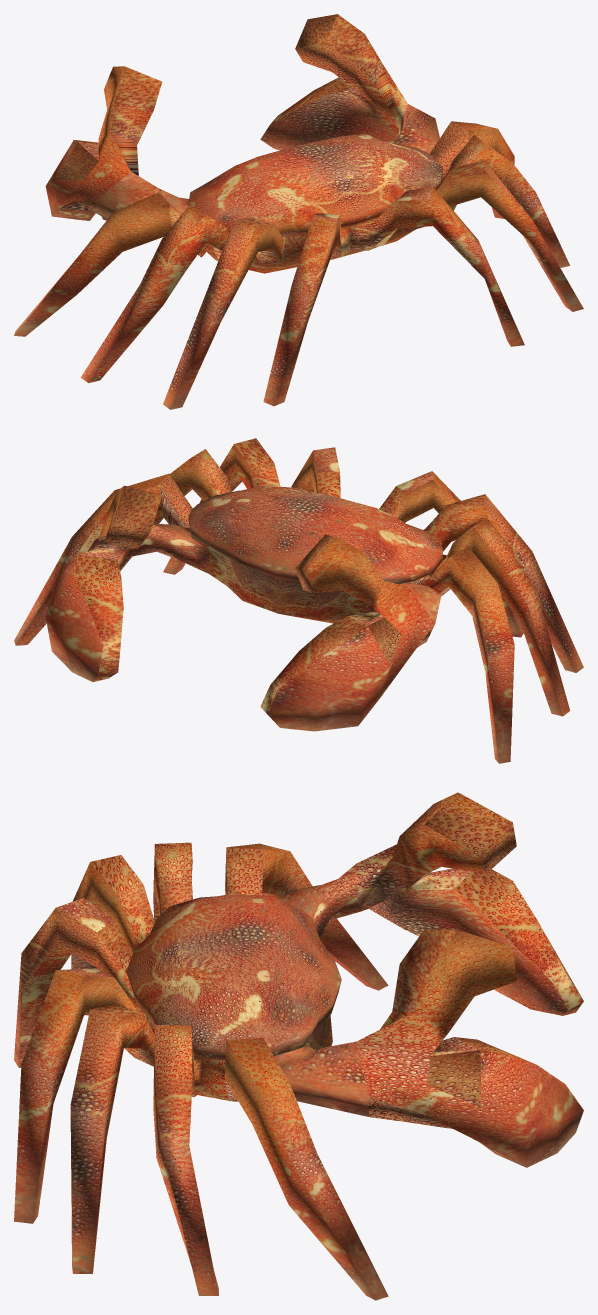
File: Krab.fbx
The picture shows the model from 3 angles, top to bottom: view 1: azimuth 30°, elevation 25°; view 2: azimuth 150°, elevation 25°; view 3: azimuth 270°, elevation 25°; orthographic projection. The views are drawn at different scales.
Parts seen in each view (by area): view 1: Cube; view 2: Cube; view 3: Cube.
Part boxes in pixels (box(x1,y1,x2,y2)): Cube: box(14, 14, 583, 409); Cube: box(14, 438, 583, 763); Cube: box(14, 792, 583, 1300).
Size of the model in its own units: 824 by 621 by 337.
